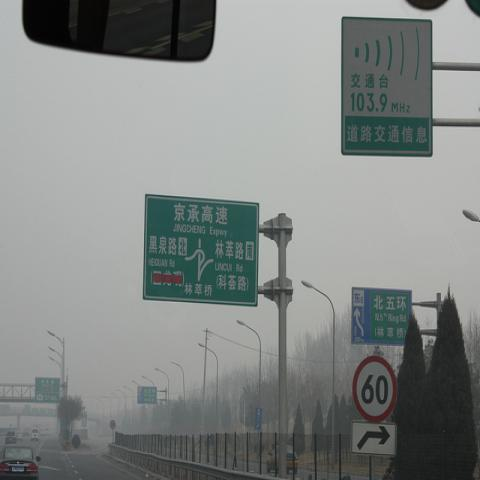car: (0, 443, 41, 480), (266, 444, 299, 474), (31, 428, 39, 442), (6, 432, 16, 443), (40, 427, 46, 437), (16, 432, 23, 440), (46, 427, 50, 435)
